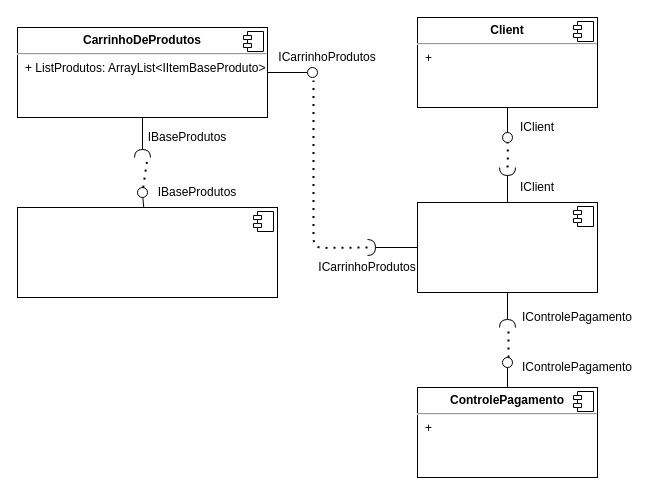
Image size: 650x495. Some labels were removed from this diagram. Here are the shapes that lost their labels. From the top down, the centre of each, then its label:
the point at 147,252: BaseProdutos + ListProdutos: ArrayLiat<IItemBaseProduto>
the point at 507,247: Pedido +
